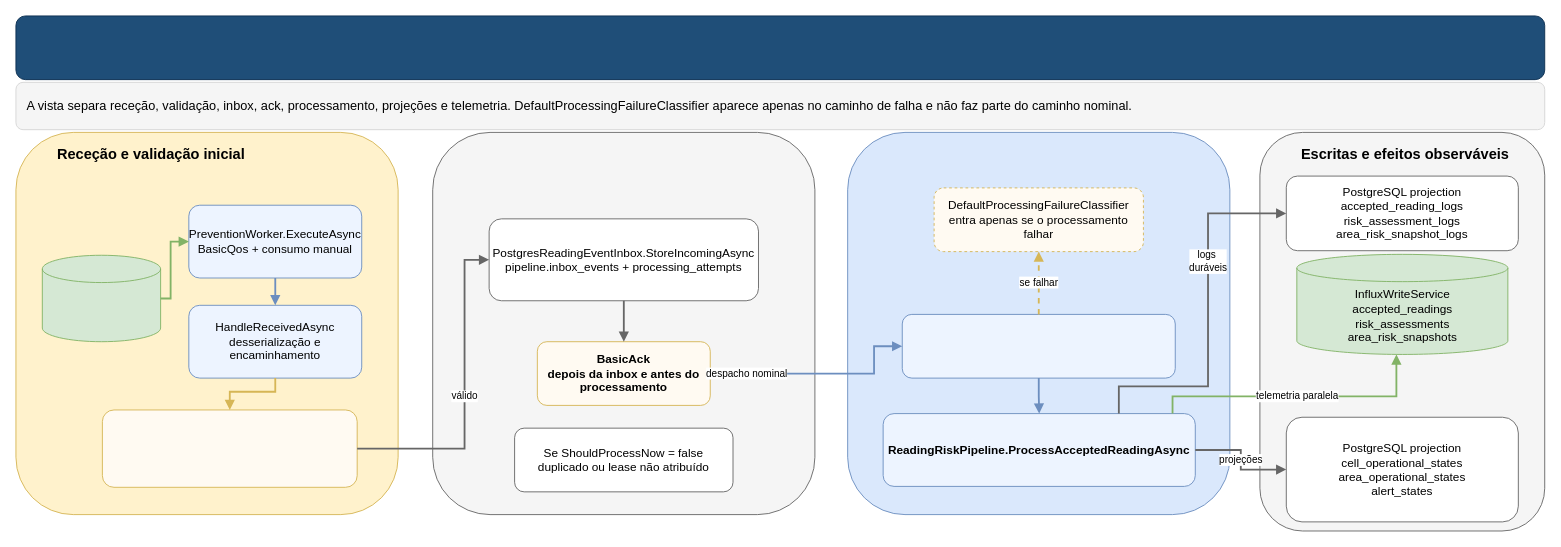
The diagram is 1561 pixels wide and 547 high, and some of its shapes have lost their labels. The box of each missing label's shape, as (x1, y1, x2, y2) in pixels:
Coordenação durável do evento: (432, 131, 815, 515)
Fluxo nominal de prevenção na runtime atual: (15, 15, 1545, 80)
Processamento nominal: (847, 131, 1230, 515)
RabbitMQ np.ingestion.readings: (41, 254, 161, 342)
ReadingEventProcessingService.ProcessAsync: (901, 313, 1175, 378)
TryValidateEnvelope contrato, campos, coords, OperationalState: (101, 409, 357, 487)
